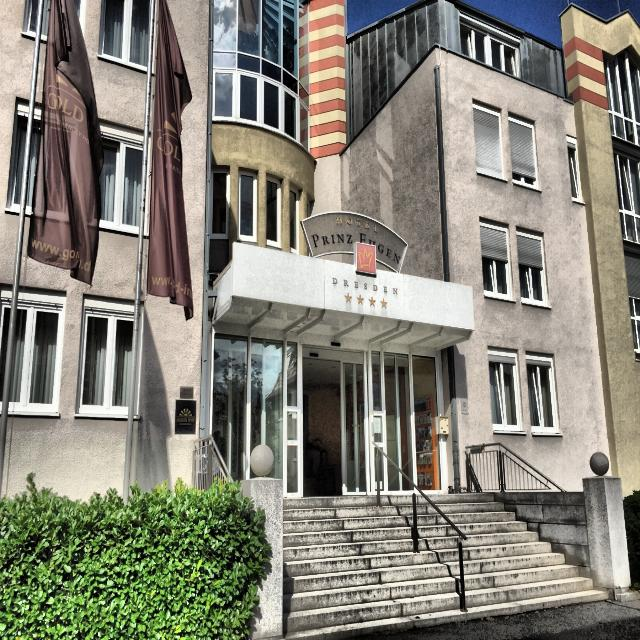escada: (283, 488, 607, 640)
